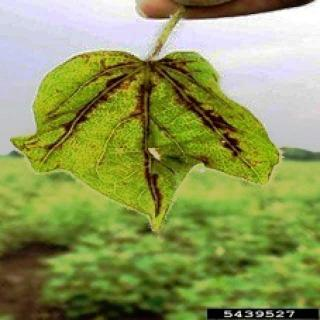curl: (19, 46, 281, 217)
